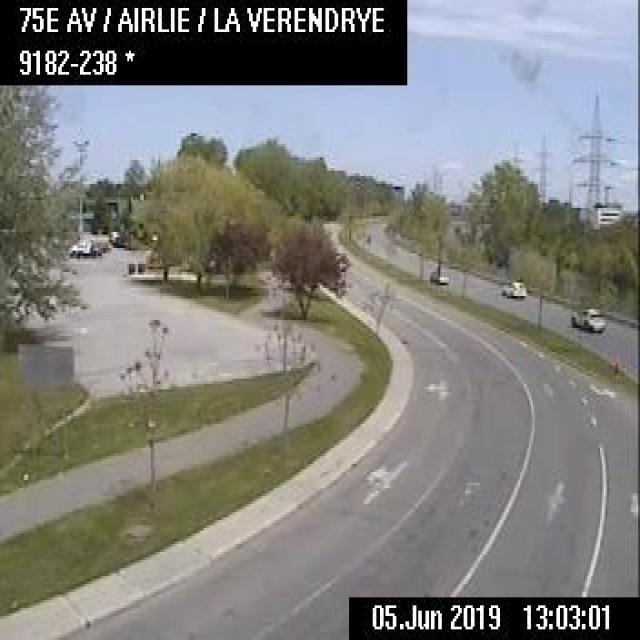vehicle: (569, 305, 604, 331), (68, 238, 93, 258), (500, 277, 524, 296), (427, 264, 448, 283)
